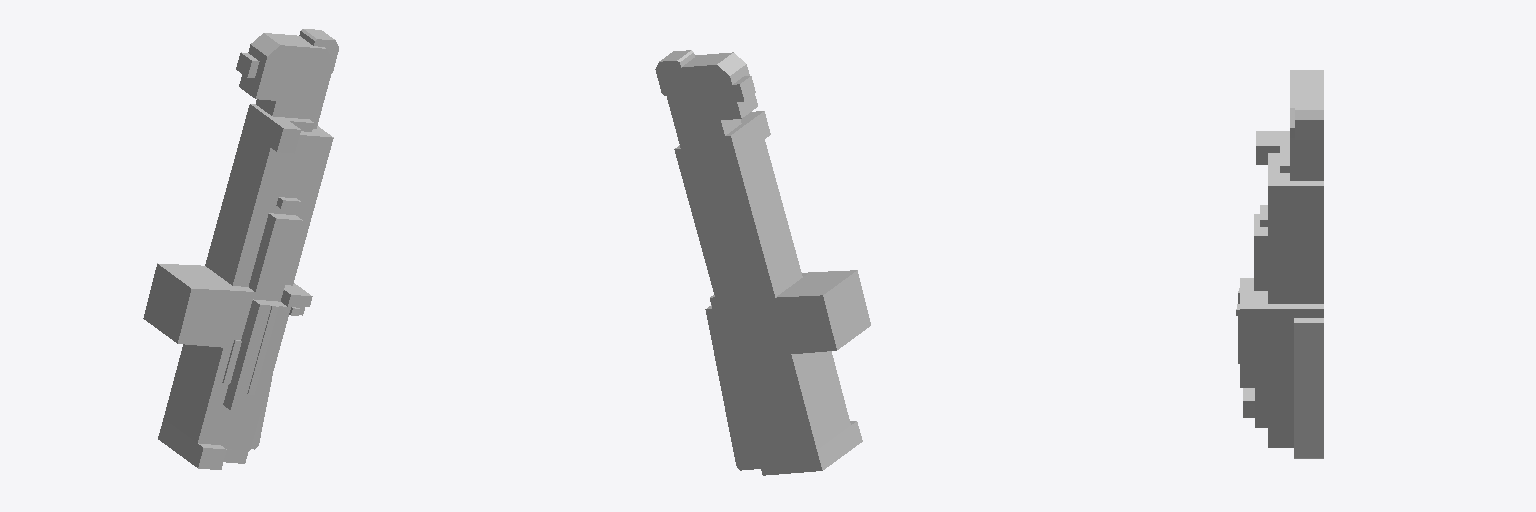
Rendered from talo_Build0000029.obj.
The picture shows the model from 3 angles: view 1: azimuth 30°, elevation 25°; view 2: azimuth 150°, elevation 25°; view 3: azimuth 270°, elevation 25°; orthographic projection.
Bounding box in the file's own units: 53.29 × 112 × 22.13.